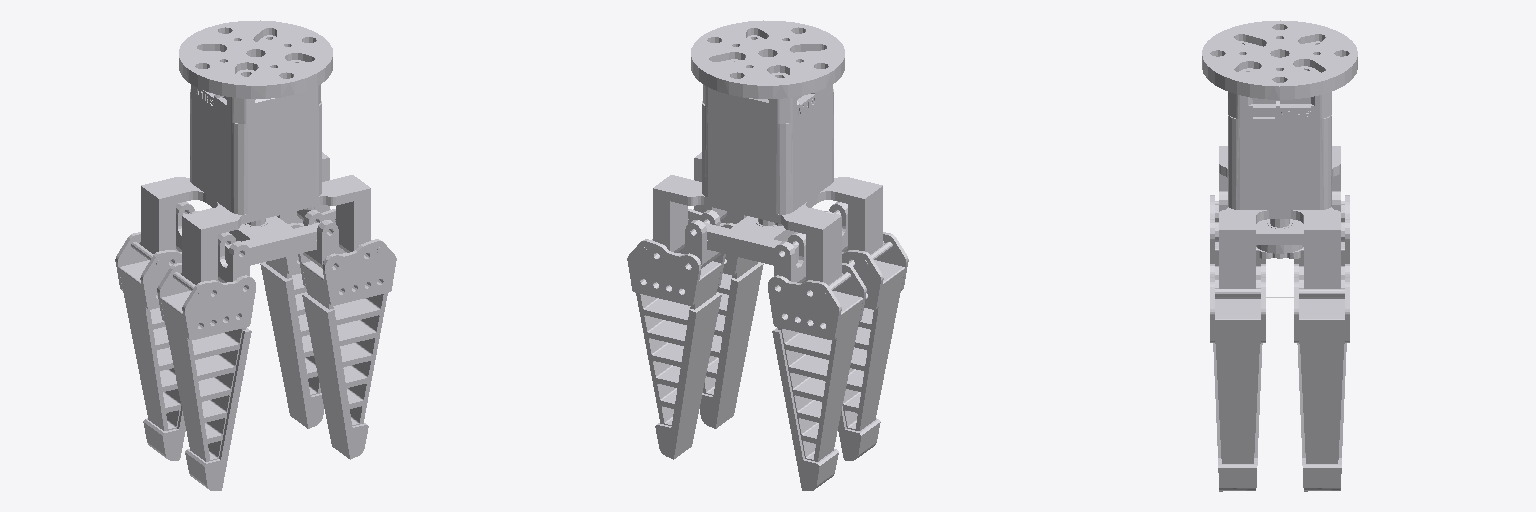
robot.urdf — orca_4fingers_gripper:
<?xml version="1.0" encoding="utf-8"?>
<!-- This URDF was automatically created by SolidWorks to URDF Exporter! Originally created by [author] ([email redacted]) 
     Commit Version: 1.6.0-4-g7f85cfe  Build Version: 1.6.7995.38578
     For more information, please see http://wiki.ros.org/sw_urdf_exporter -->
<robot
  name="orca_4fingers_gripper">
  <link
    name="base_link">
    <inertial>
      <origin
        xyz="-1.0899E-05 -3.5276E-06 -0.039872"
        rpy="0 0 0" />
      <mass
        value="0.37773" />
      <inertia
        ixx="0.00030022"
        ixy="1.754E-07"
        ixz="8.9938E-08"
        iyy="0.00034117"
        iyz="4.8611E-08"
        izz="0.00017546" />
    </inertial>
    <visual>
      <origin
        xyz="0 0 0"
        rpy="0 0 0" />
      <geometry>
        <mesh
          filename="package://orca_4fingers_gripper/meshes/base_link.STL" />
      </geometry>
      <material
        name="">
        <color
          rgba="0.86667 0.86667 0.8902 1" />
      </material>
    </visual>
    <collision>
      <origin
        xyz="0 0 -0.025"
        rpy="0 0 0" />
      <geometry>
        <cylinder radius="0.032" length="0.05" /> 
      </geometry>
    </collision>
    <collision>
      <origin
        xyz="0 0 -0.07"
        rpy="0 0 0" />
      <geometry>
        <box size="0.082 0.054 0.020" />
      </geometry>
    </collision>
  </link>
  <link
    name="roll_link1">
    <inertial>
      <origin
        xyz="-0.0048066 6.6139E-07 -0.03006"
        rpy="0 0 0" />
      <mass
        value="0.093" />
      <inertia
        ixx=" 0.00010363"
        ixy="0.00001675"
        ixz="0"
        iyy="0.00004665"
        iyz="-1.2399E-12"
        izz="0.00008053" />
    </inertial>
    <visual>
      <origin
        xyz="0 0 0"
        rpy="0 0 0" />
      <geometry>
        <mesh
          filename="package://orca_4fingers_gripper/meshes/roll_link1.STL" />
      </geometry>
      <material
        name="">
        <color
          rgba="0.86667 0.86667 0.8902 1" />
      </material>
    </visual>
    <collision>
      <origin
        xyz="0.005 0 -0.045"
        rpy="0 -0.26 0" />
      <geometry>
        <box size="0.046 0.058 0.089" />
      </geometry>
    </collision>
  </link>
  <joint
    name="roll_jiont1"
    type="revolute">
    <origin
      xyz="0.035999 0 -0.087997"
      rpy="0 0 0" />
    <parent
      link="base_link" />
    <child
      link="roll_link1" />
    <axis
      xyz="0 -1 0" />
    <limit
      lower="-0.33"
      upper="0.244"
      effort="10"
      velocity="0.1" />
  </joint>
  <link
    name="roll_link2">
    <inertial>
      <origin
        xyz="0.0048066 -6.6139E-07 -0.03006"
        rpy="0 0 0" />
      <mass
        value="0.093" />
      <inertia
        ixx="0.00010363"
        ixy="0.00001675"
        ixz="0"
        iyy="0.00004665"
        iyz="1.2399E-12"
        izz="0.00008053" />
    </inertial>
    <visual>
      <origin
        xyz="0 0 0"
        rpy="0 0 0" />
      <geometry>
        <mesh
          filename="package://orca_4fingers_gripper/meshes/roll_link2.STL" />
      </geometry>
      <material
        name="">
        <color
          rgba="0.86667 0.86667 0.8902 1" />
      </material>
    </visual>
    <collision>
      <origin
        xyz="-0.005 0 -0.045"
        rpy="0 0.26 0" />
      <geometry>
        <box size="0.046 0.058 0.089" />
      </geometry>
    </collision>
  </link>
  <joint
    name="roll_jiont2"
    type="revolute">
    <origin
      xyz="-0.035999 0 -0.087997"
      rpy="0 0 0" />
    <parent
      link="base_link" />
    <child
      link="roll_link2" />
    <axis
      xyz="0 -1 0" />
    <mimic joint="roll_jiont1" multiplier="-1.0" offset="0"/>
    <limit
      lower="-0.244"
      upper="0.33"
      effort="10"
      velocity="0.1" />
  </joint>
</robot>

--- Facts derived from the render (not from the file) ---
Views: 3 orthographic renders of the robot side by side, from view 1: azimuth 30°, elevation 25°; view 2: azimuth 150°, elevation 25°; view 3: azimuth 270°, elevation 25°.
Robot: orca_4fingers_gripper — 3 links, 2 joints (2 revolute); root link base_link; default pose: every joint at zero.
Links seen in each view (by area): view 1: base_link, roll_link2, roll_link1; view 2: base_link, roll_link2, roll_link1; view 3: base_link, roll_link1, roll_link2.
Boxes of the visible links, bbox=[...] form: base_link: bbox=[139, 20, 370, 294]; roll_link2: bbox=[115, 201, 255, 490]; roll_link1: bbox=[260, 209, 396, 459]; base_link: bbox=[653, 20, 884, 294]; roll_link2: bbox=[768, 201, 908, 490]; roll_link1: bbox=[627, 209, 763, 459]; base_link: bbox=[1202, 20, 1357, 298]; roll_link1: bbox=[1210, 264, 1349, 491]; roll_link2: bbox=[1210, 191, 1349, 265].
Size in the robot's own frame: 0.0996 by 0.063 by 0.1796 metres.
3 mesh visuals loaded from 3 distinct referenced files (3 binary STL).